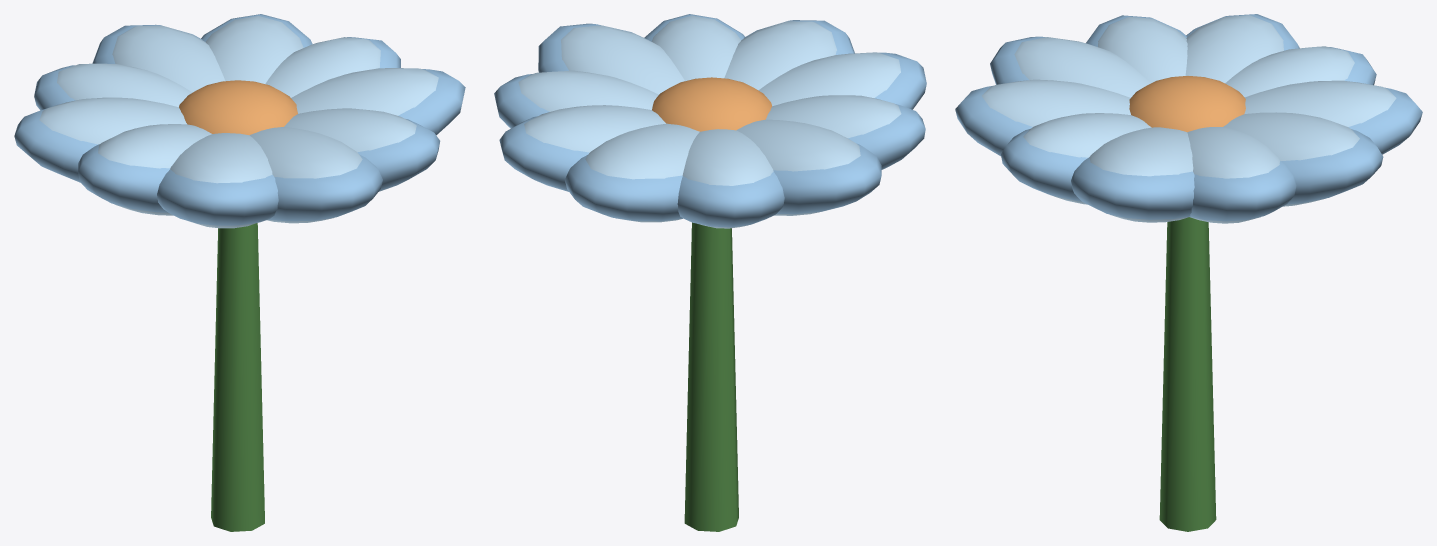
The model's file is cosmos-daisy-flower-blue.glb.
3 views of the same model, side by side, from view 1: azimuth 30°, elevation 25°; view 2: azimuth 150°, elevation 25°; view 3: azimuth 270°, elevation 25° (orthographic).
Parts seen in each view (by area): view 1: stem, part_19, center, part_6, part_12, part_16, part_10, part_1, part_2, part_20, part_8, part_14 (+9 smaller); view 2: stem, part_6, center, part_20, part_11, part_2, part_12, part_16, part_13, part_15, part_10, part_8 (+9 smaller); view 3: stem, part_5, center, part_20, part_12, part_2, part_16, part_10, part_7, part_6, part_18, part_14 (+9 smaller).
Boxes of the visible parts, x1,y1,x2,y2 form: stem: [211, 223, 264, 531]; part_19: [157, 169, 278, 225]; center: [179, 80, 297, 135]; part_6: [291, 68, 438, 115]; part_12: [112, 25, 225, 92]; part_16: [39, 97, 186, 144]; part_10: [205, 16, 303, 83]; part_1: [269, 154, 382, 221]; part_2: [249, 127, 362, 223]; part_20: [170, 133, 272, 228]; part_8: [265, 37, 380, 97]; part_14: [57, 63, 192, 106]; stem: [684, 222, 738, 531]; part_6: [561, 25, 684, 94]; center: [652, 77, 771, 131]; part_20: [758, 52, 900, 106]; part_11: [565, 155, 682, 221]; part_2: [724, 21, 836, 90]; part_12: [585, 123, 699, 222]; part_16: [736, 119, 860, 215]; part_13: [677, 172, 784, 227]; part_15: [773, 143, 881, 214]; part_10: [524, 105, 665, 152]; part_8: [518, 70, 658, 111]; stem: [1159, 217, 1216, 531]; part_5: [1071, 157, 1194, 219]; center: [1129, 76, 1245, 132]; part_20: [1014, 37, 1150, 97]; part_12: [1244, 80, 1396, 126]; part_2: [982, 79, 1130, 126]; part_16: [1185, 15, 1283, 83]; part_10: [1223, 112, 1359, 206]; part_7: [1189, 161, 1296, 221]; part_6: [1089, 127, 1193, 222]; part_18: [1098, 17, 1187, 83]; part_14: [1225, 46, 1354, 97].
Size of the model in its own units: 0.2819 by 0.3055 by 0.2978.
